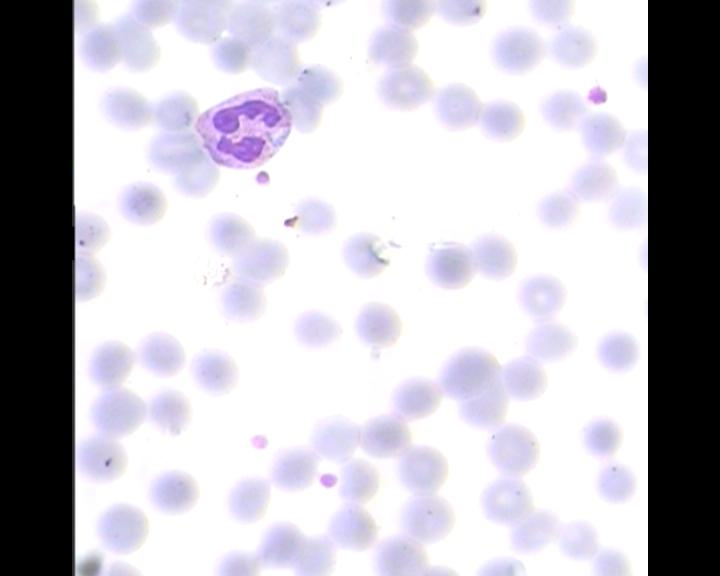neut: (193, 86, 296, 168)
